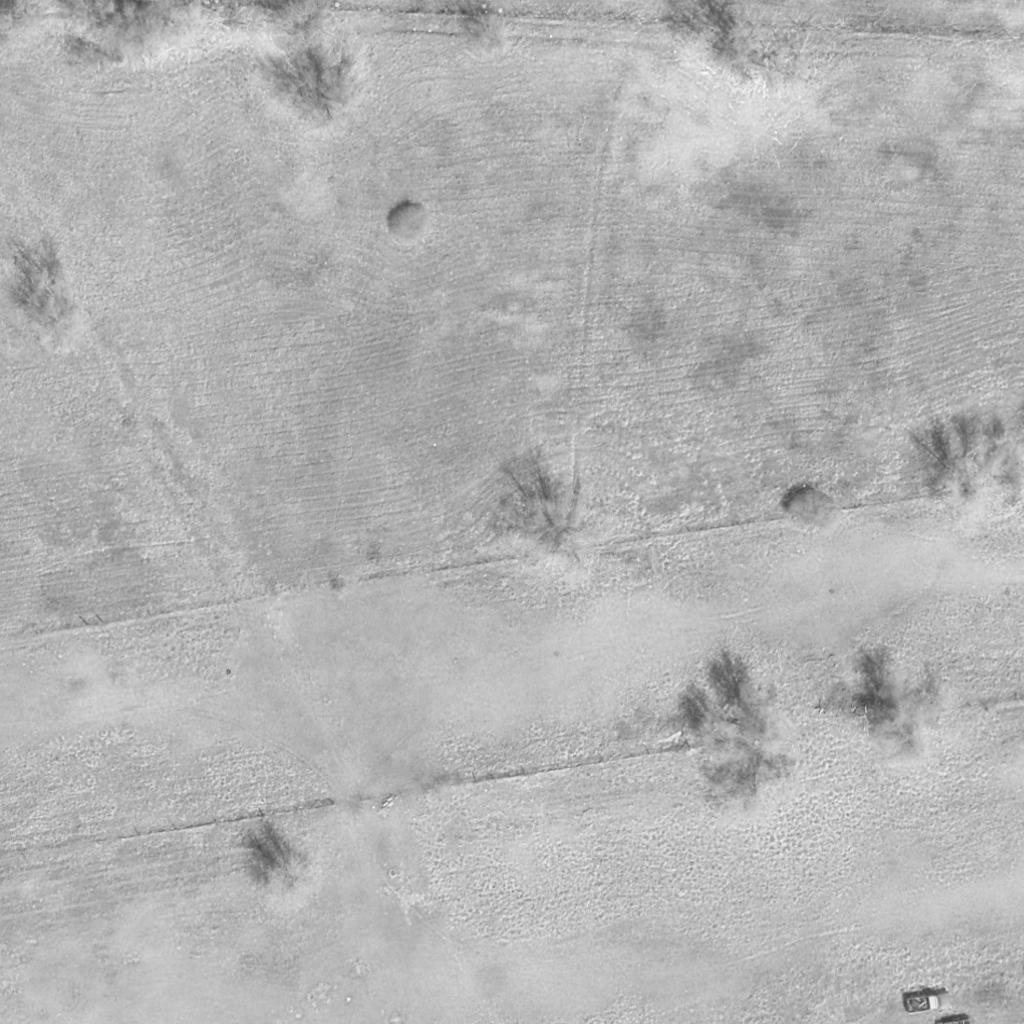vehicle: (905, 993, 953, 1017)
